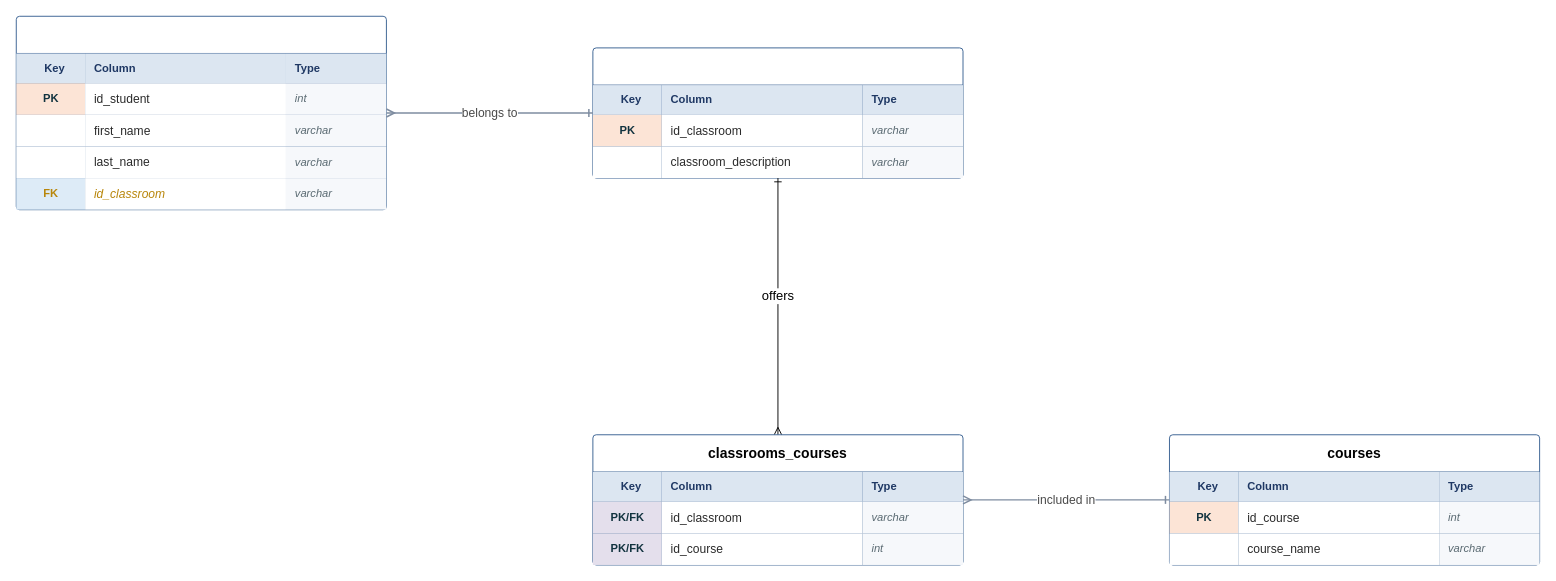
Some shapes in this 1556 by 581 pixel diagram are drawn without their labels. Each missing label, with the box of its shape:
classrooms: (592, 47, 963, 178)
students: (15, 15, 386, 210)
